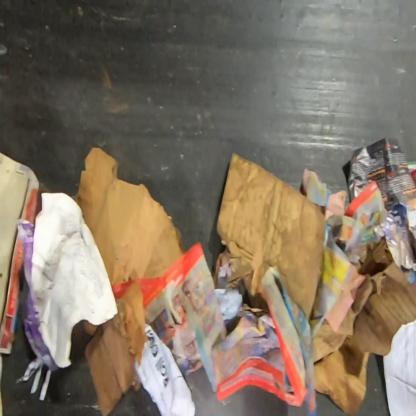cardboard: (213, 152, 325, 322), (311, 236, 415, 415), (70, 146, 185, 286), (83, 281, 149, 415), (0, 152, 41, 355), (133, 323, 196, 416), (302, 168, 347, 222), (82, 320, 99, 338)
soft_plastic: (214, 287, 243, 322)
